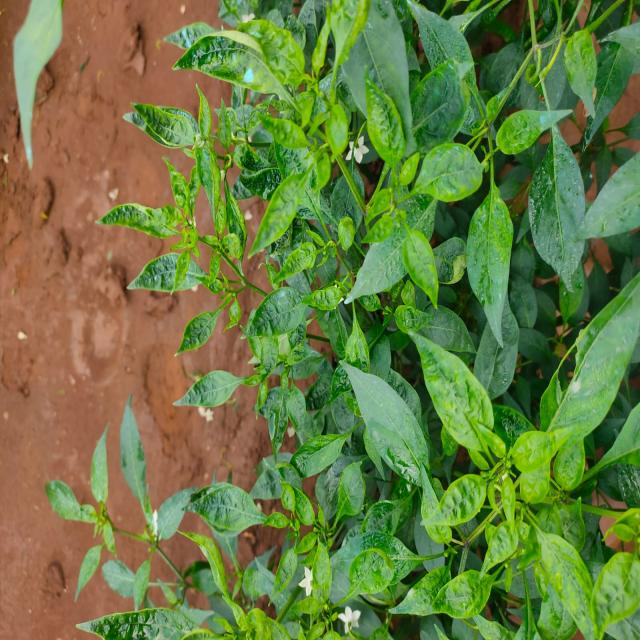Moko: (392, 361, 640, 640), (68, 72, 254, 395), (172, 0, 394, 236), (406, 70, 548, 284), (202, 476, 369, 640)
